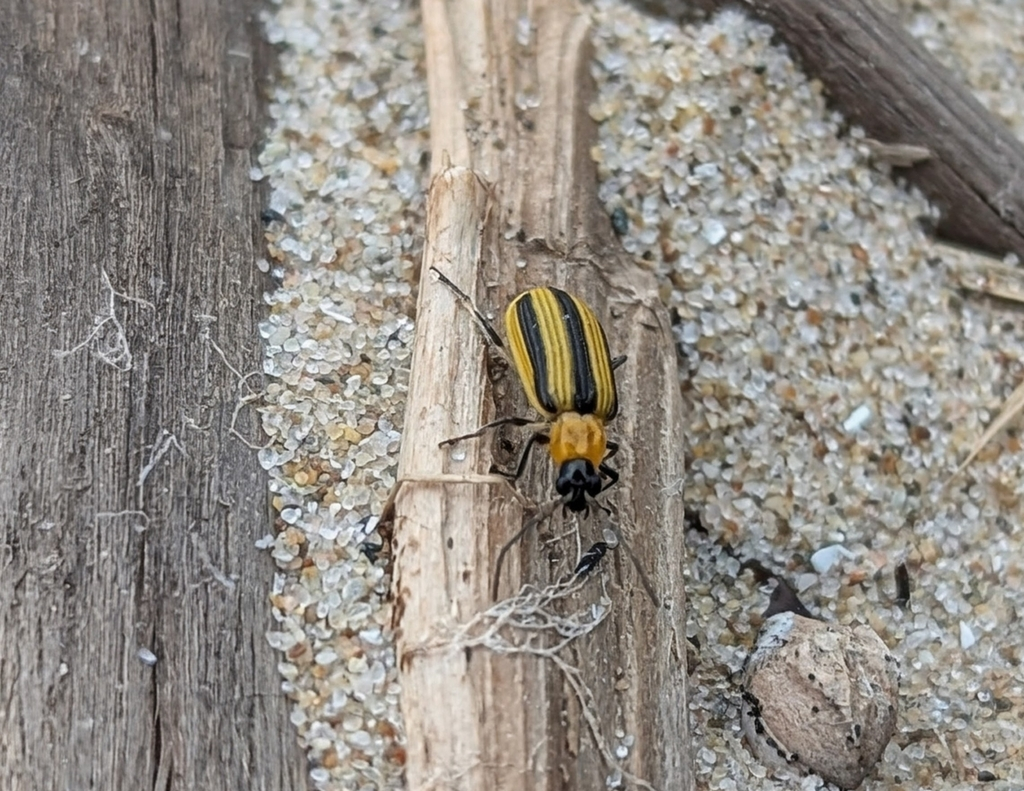potato_beetle: (385, 214, 690, 594)
